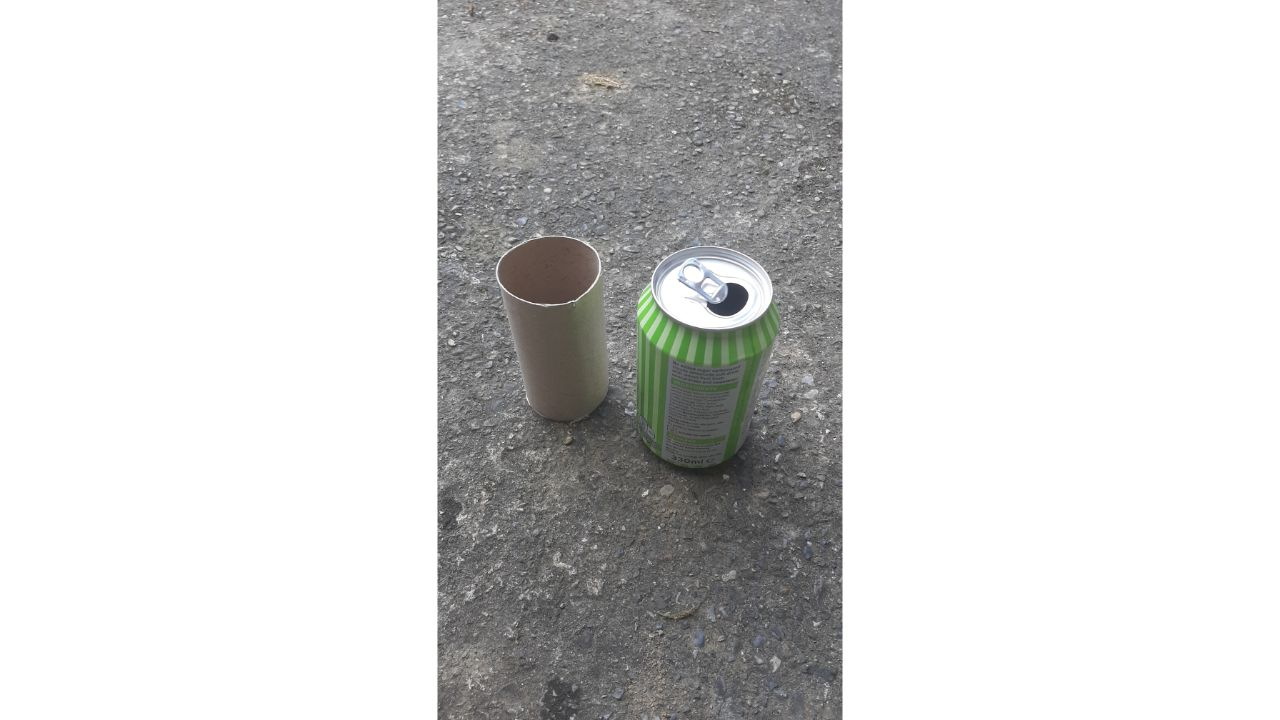Can: (629, 235, 787, 481)
